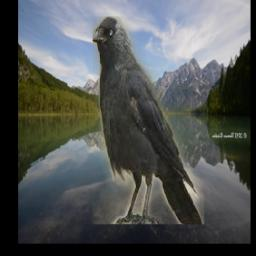Crow: (92, 17, 203, 225)
